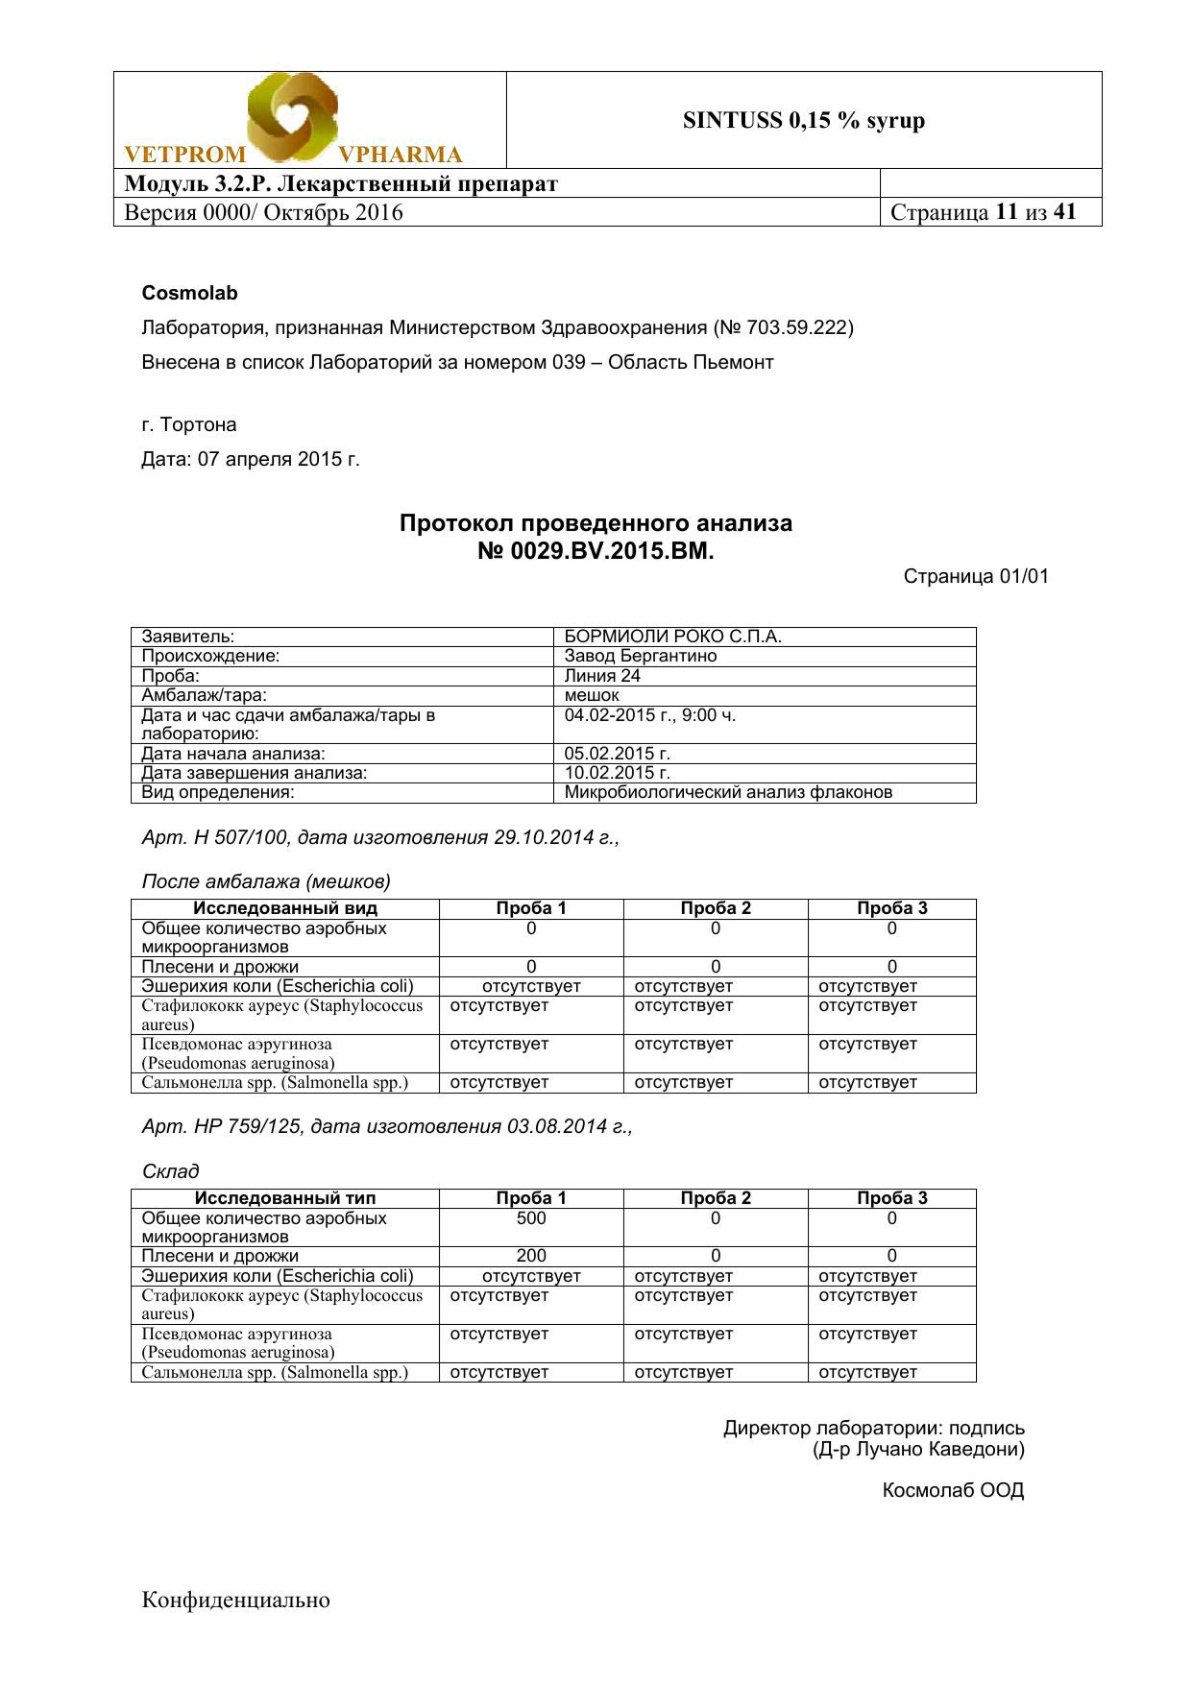full_lined: (128, 1186, 979, 1384), (129, 897, 977, 1095), (128, 624, 978, 805)
merged_cells: (111, 68, 1104, 228)
